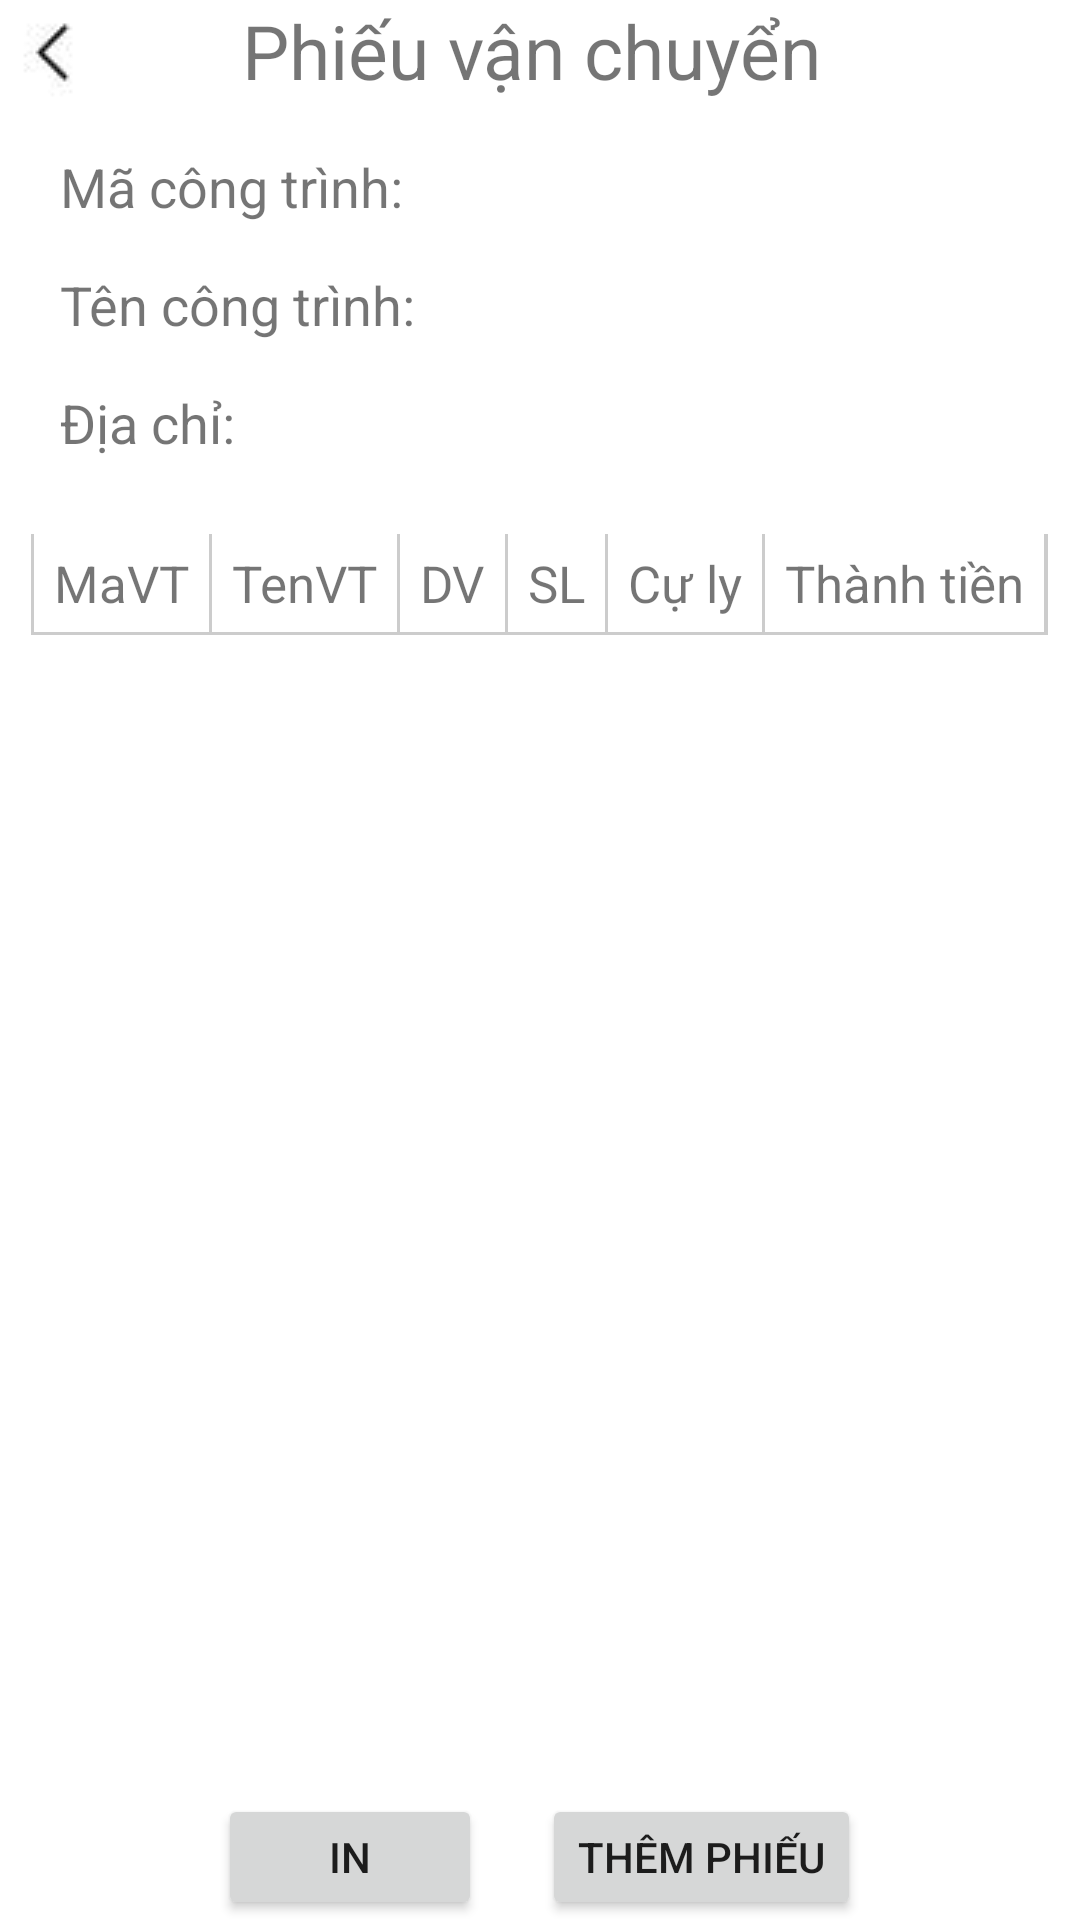

Icons on this 1080x1920 Android screen, each with the point to tap as [x,y]:
back: [52,52]
